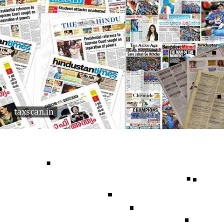news_paper: (125, 41, 224, 131), (152, 41, 224, 129), (36, 53, 125, 116), (47, 11, 125, 76), (126, 0, 223, 42), (35, 80, 116, 130), (0, 49, 38, 128), (180, 67, 224, 128), (0, 33, 40, 92), (183, 55, 224, 107), (0, 0, 42, 48), (46, 0, 124, 17)
